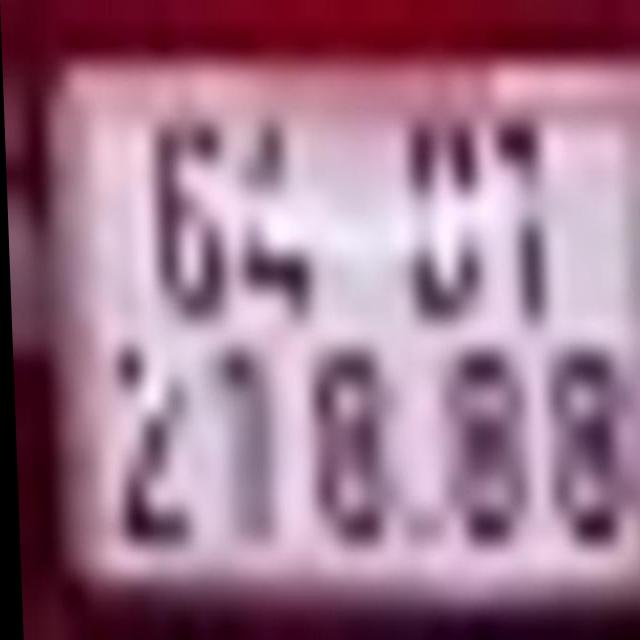1: (208, 337, 281, 552), (485, 113, 549, 322)
2: (105, 337, 188, 545)
4: (230, 116, 319, 327)
6: (146, 110, 231, 324)
8: (440, 340, 532, 544), (310, 338, 391, 553), (544, 344, 628, 544)
U: (401, 115, 486, 328)
